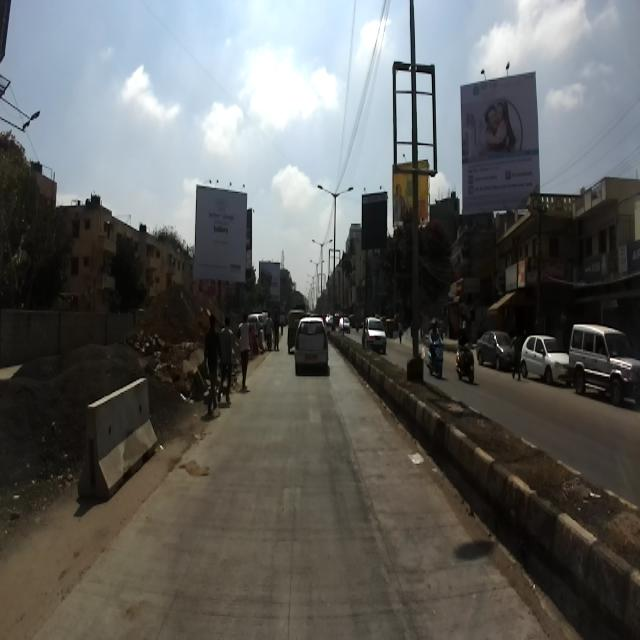barrier ahead at: (82, 374, 158, 501)
car ahead at: (292, 310, 334, 388)
